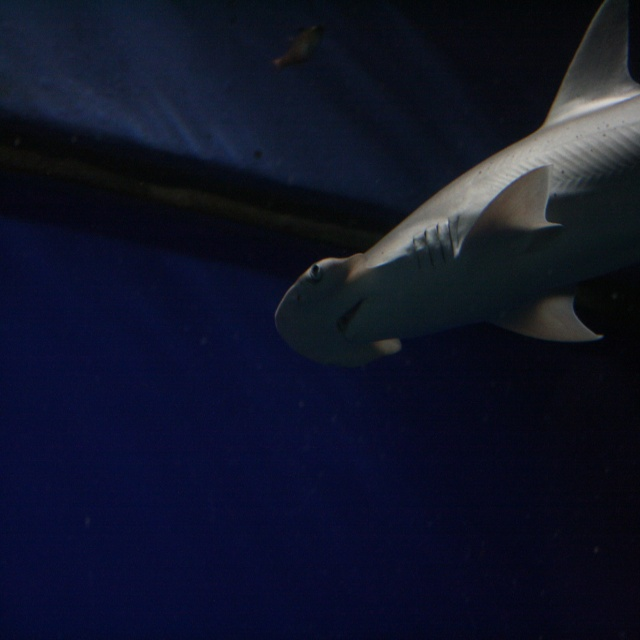Shark: (275, 0, 640, 367)
